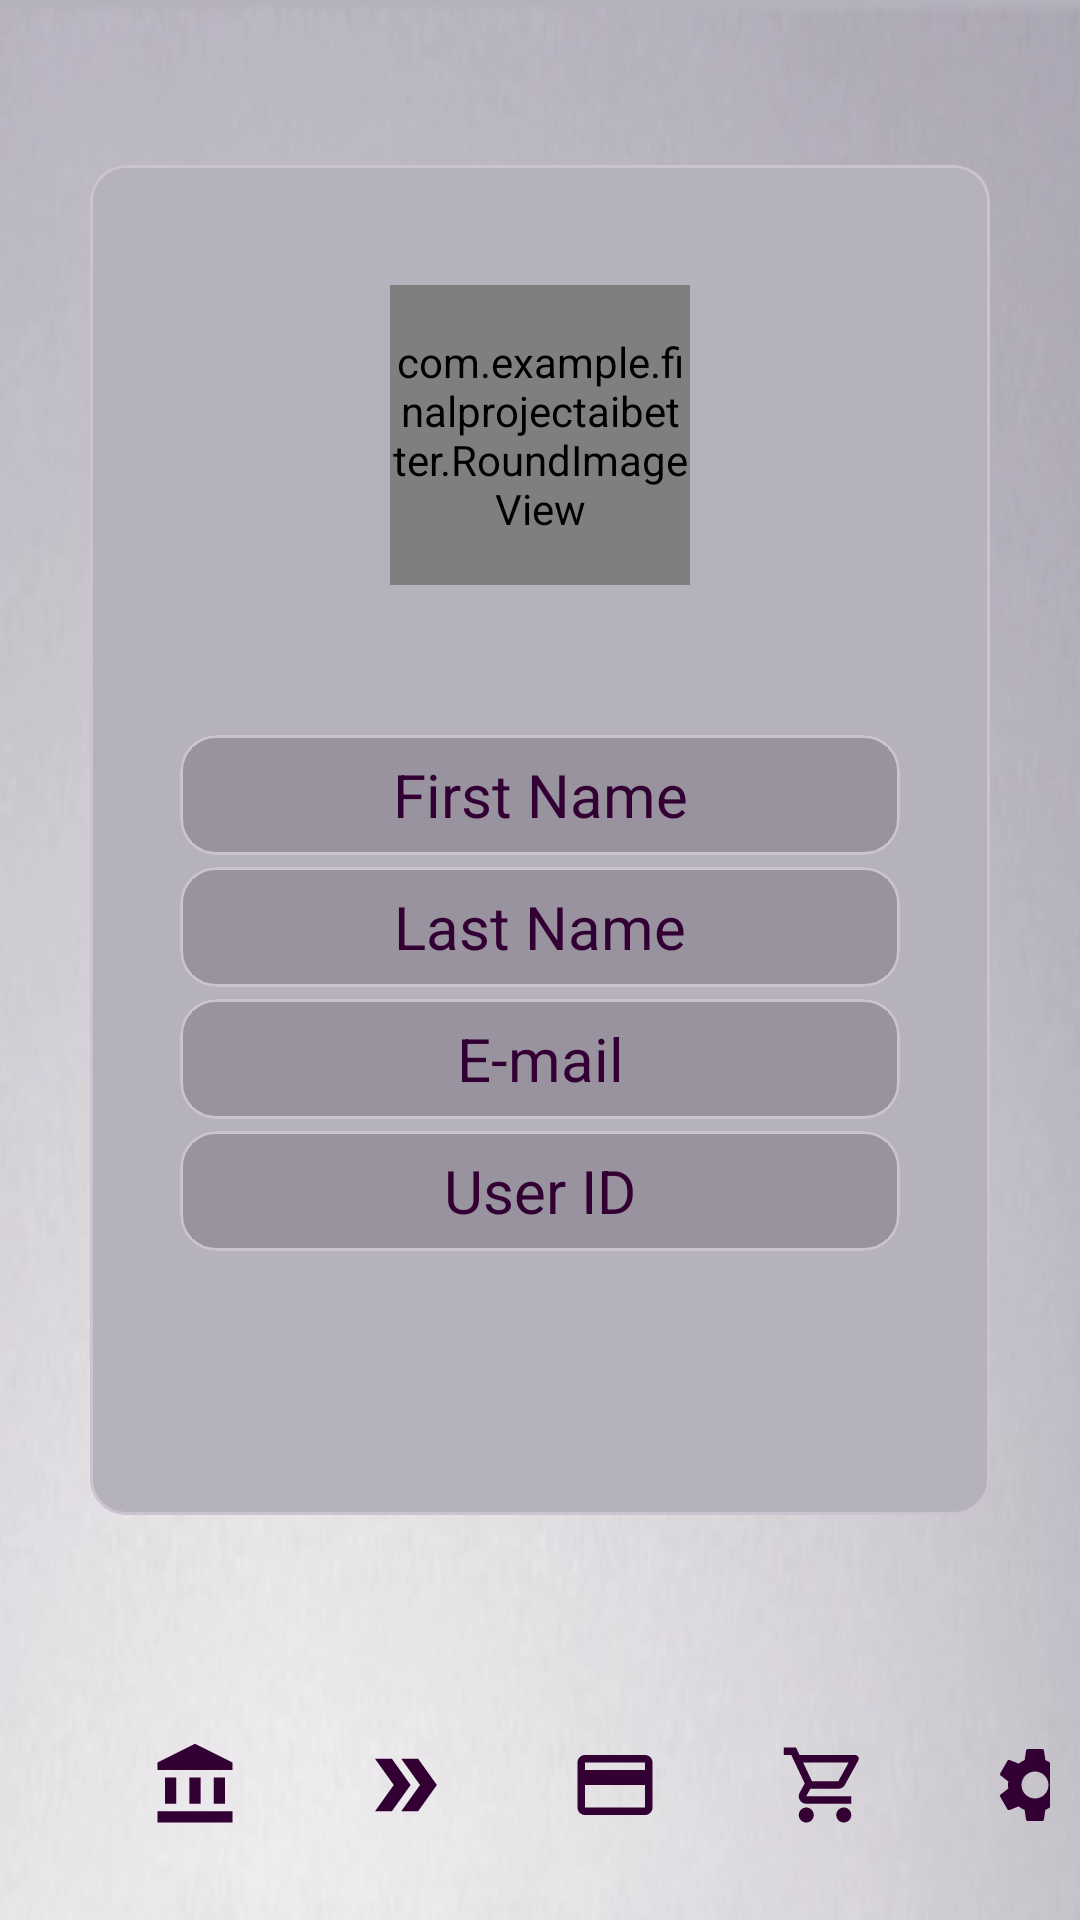

Icons on this 1080 × 1920 Android screen, each with the point to tap as point (x, y):
Balance Page Icon: point (195, 1783)
cards icon: point (615, 1785)
products icon: point (821, 1785)
Transfers Icon: point (406, 1785)
